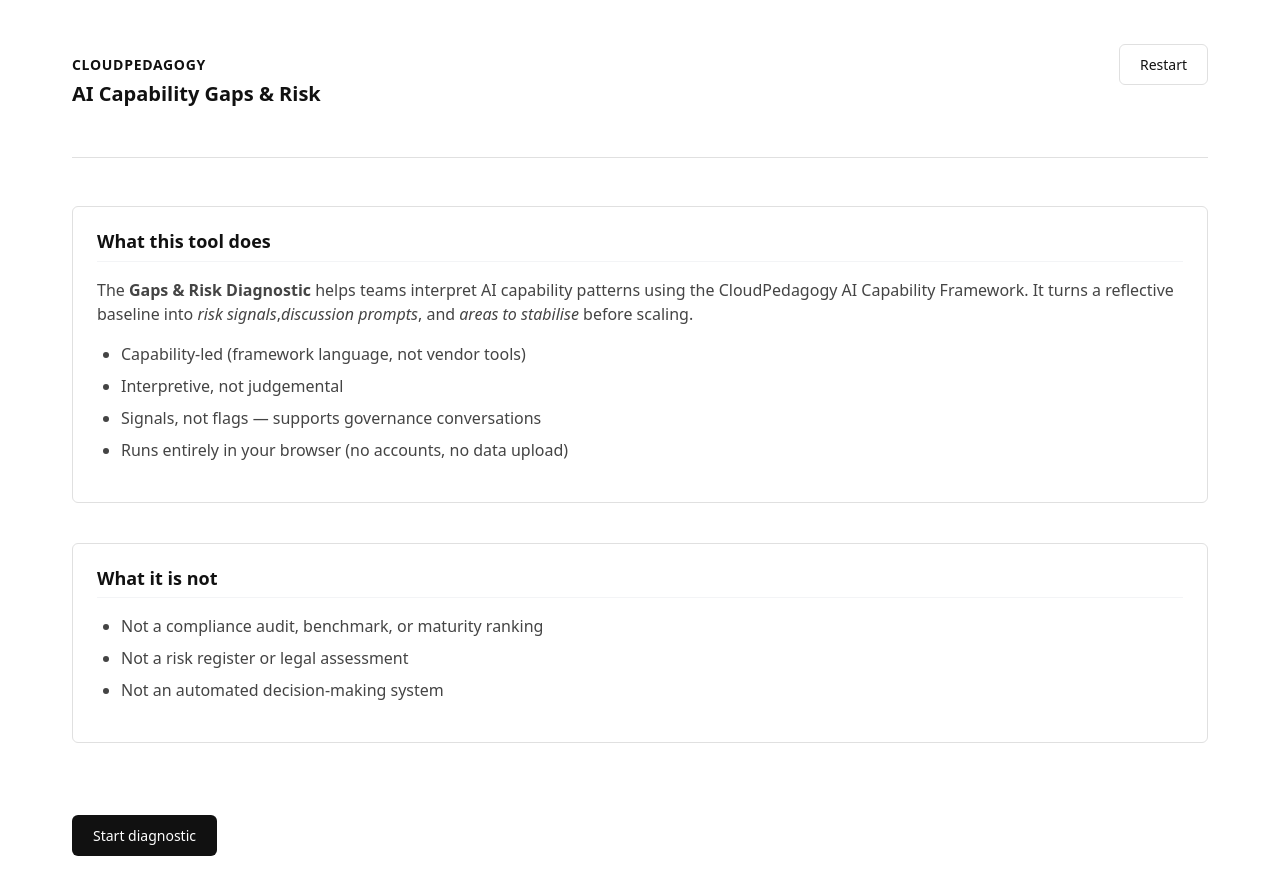
Test: Application End-to-End Workflow & Navigation › handles copy to clipboard interaction on ResultsView
The image size is (1280, 896).
What coordinates should you click on to do the following:
click the button "Start diagnostic"
I would click on:
 (144, 836)
Its box is [72,815,217,856].
(page scrolled)
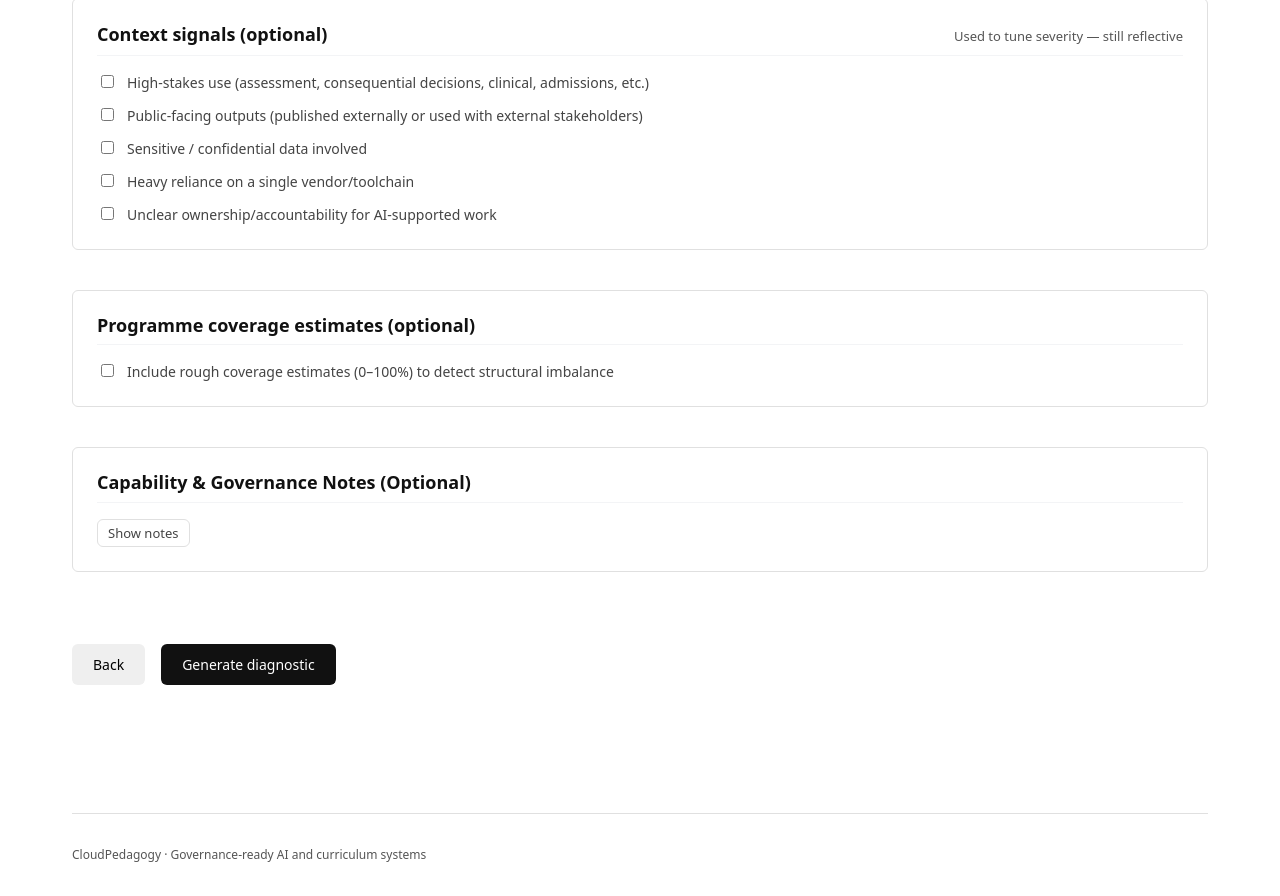
What coordinates should you click on to do the following:
click the button "Generate diagnostic"
I would click on:
 (248, 664)
Its box is [161,644,336,685].
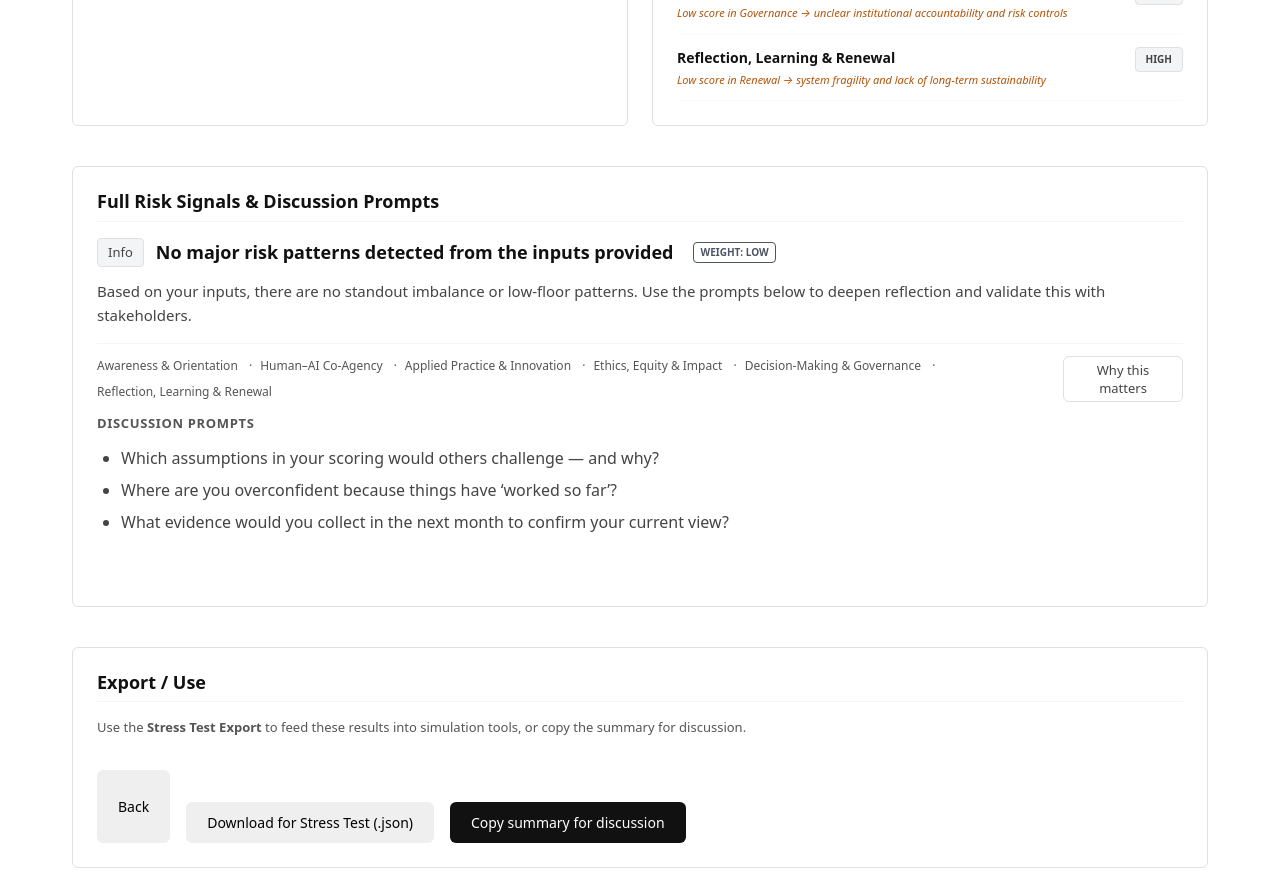
What coordinates should you click on to do the following:
click the button "Copy summary for discussion"
I would click on:
 (568, 822)
Its box is [450,802,686,843].
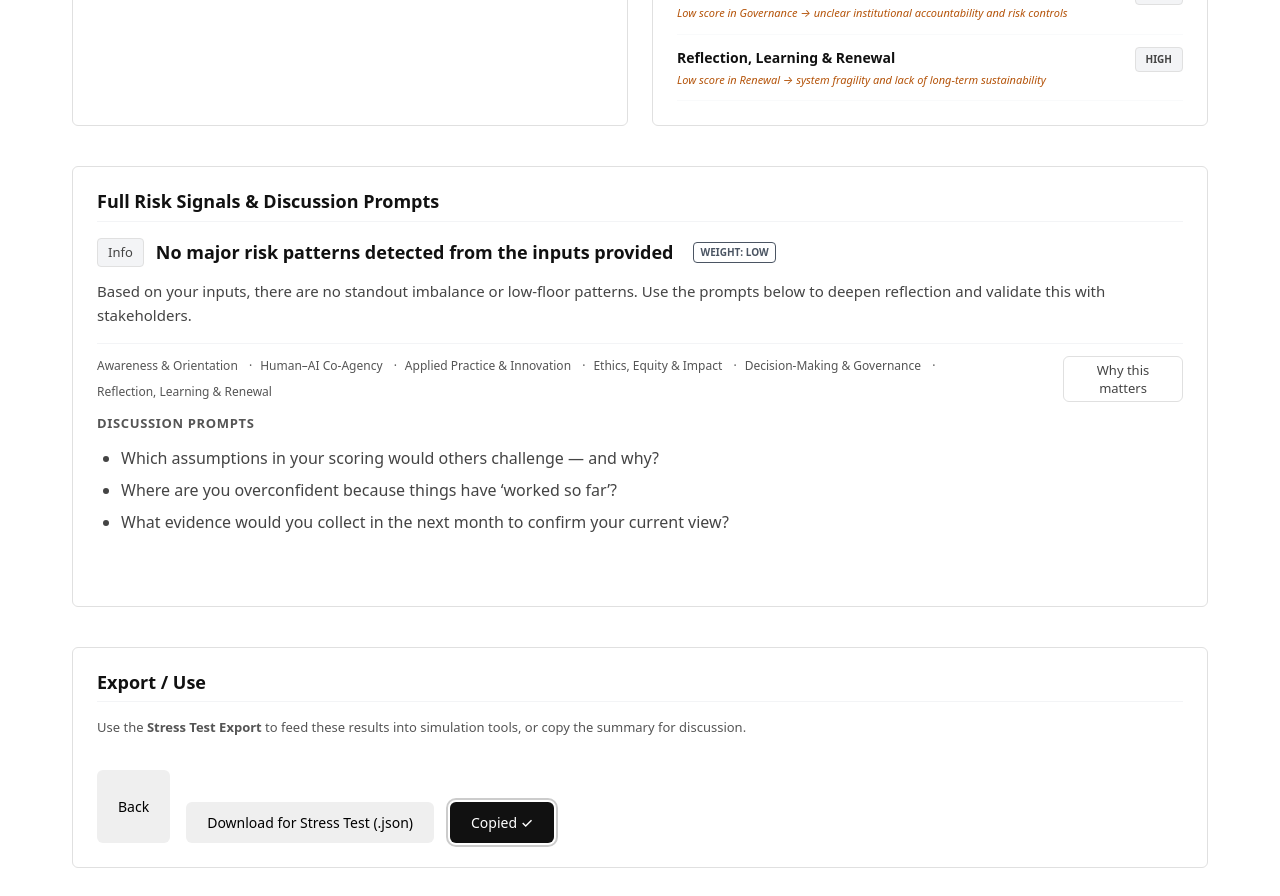
Now the button "Copied ✓" is shown, box [450,802,554,843]
